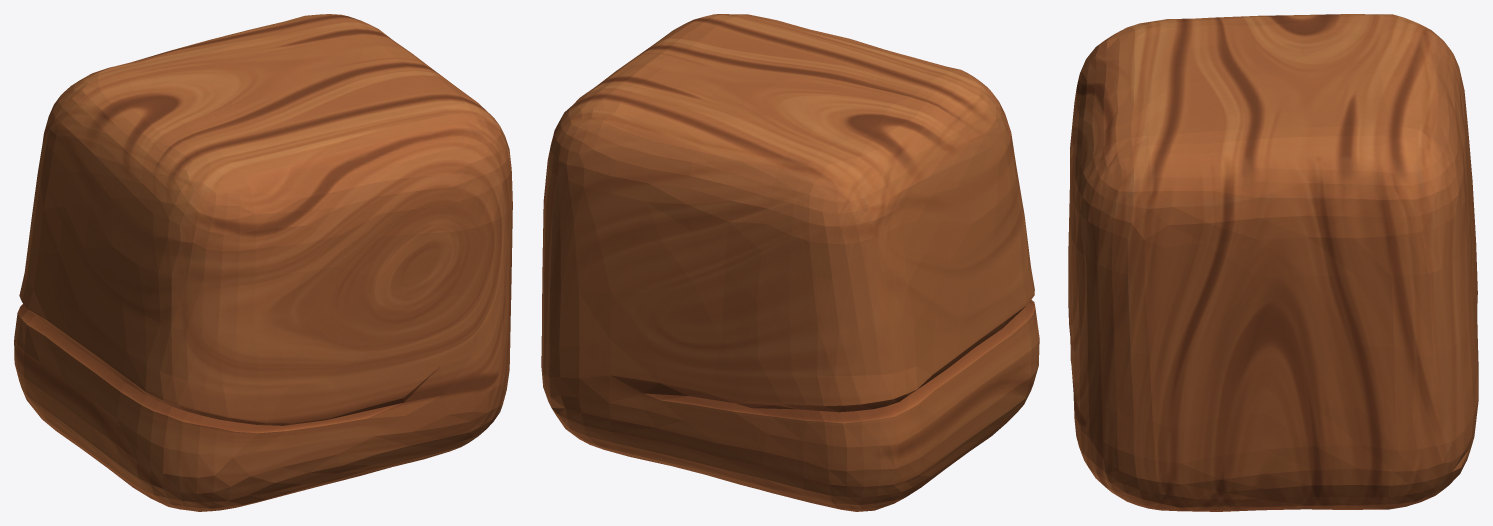
Rendered from Wood_Cube.glb.
3 views of the same model, side by side, from view 1: azimuth 30°, elevation 25°; view 2: azimuth 150°, elevation 25°; view 3: azimuth 270°, elevation 25° (orthographic). The views are drawn at different scales.
Parts seen in each view (by area): view 1: mesh_node; view 2: mesh_node; view 3: mesh_node.
Boxes of the visible parts, <box> form: mesh_node: <box>14,14,512,511</box>; mesh_node: <box>541,14,1039,511</box>; mesh_node: <box>1068,14,1478,511</box>.
Bounding box in the file's own units: 1 × 0.9199 × 0.9004.
1 material, 1 textured.
